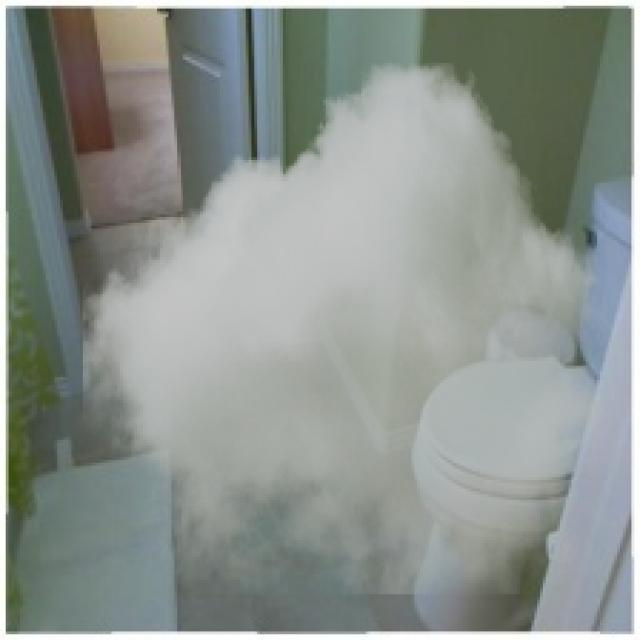smoke: (83, 63, 606, 594)
